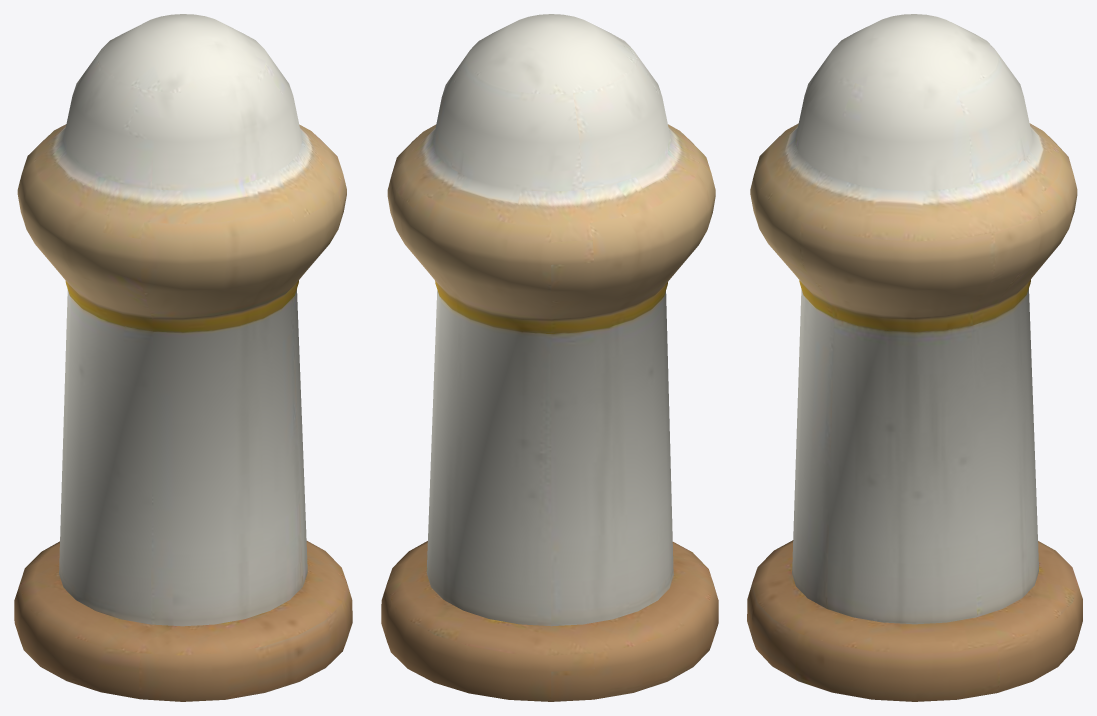
The model's file is bollard.glb.
3 renders of one model, left to right at view 1: azimuth 30°, elevation 25°; view 2: azimuth 150°, elevation 25°; view 3: azimuth 270°, elevation 25°, orthographic.
Parts seen in each view (by area): view 1: bollard; view 2: bollard; view 3: bollard.
Boxes of the visible parts, x1,y1,x2,y2 form: bollard: (14, 14, 352, 701); bollard: (381, 14, 718, 701); bollard: (747, 14, 1082, 701).
Size of the model in its own units: 0.3394 by 0.6807 by 0.3388.
Materials: 4 (4 with a texture image).
